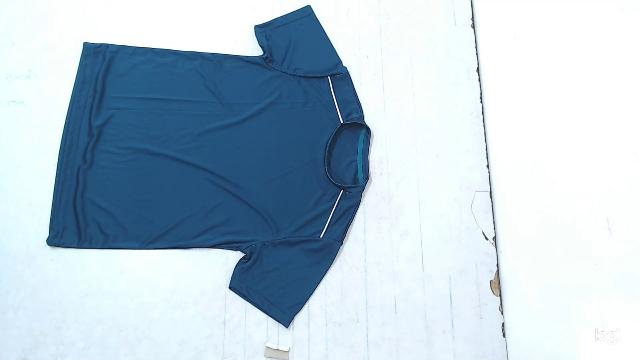new-garment: (47, 6, 370, 327)
